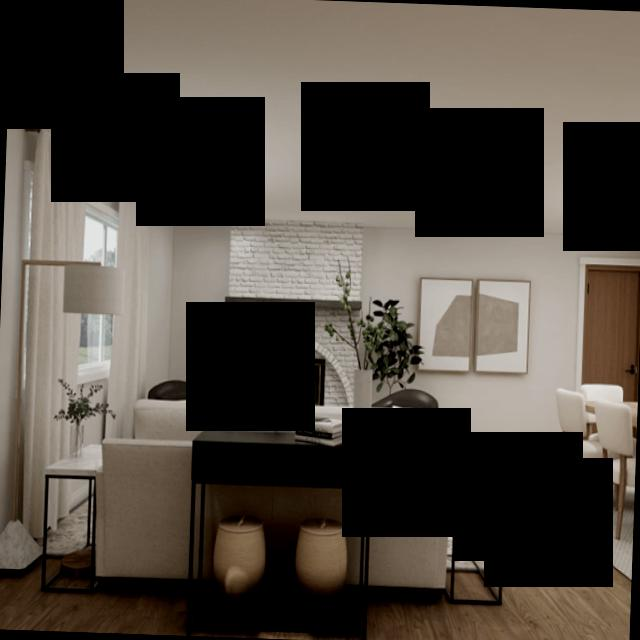modern chair: (582, 392, 638, 543), (548, 379, 605, 508)
modern desk: (436, 448, 513, 610), (36, 437, 105, 598)
